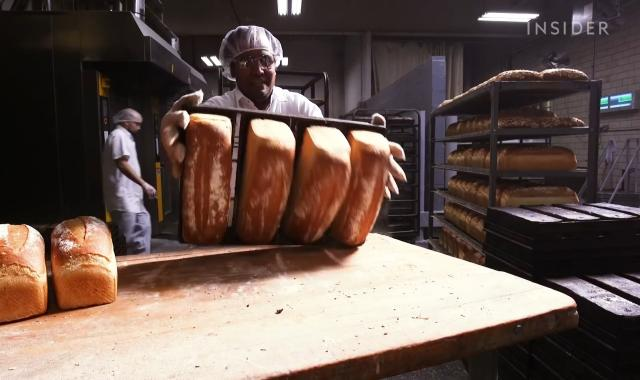hairnet: (213, 24, 286, 62), (111, 108, 145, 129)
